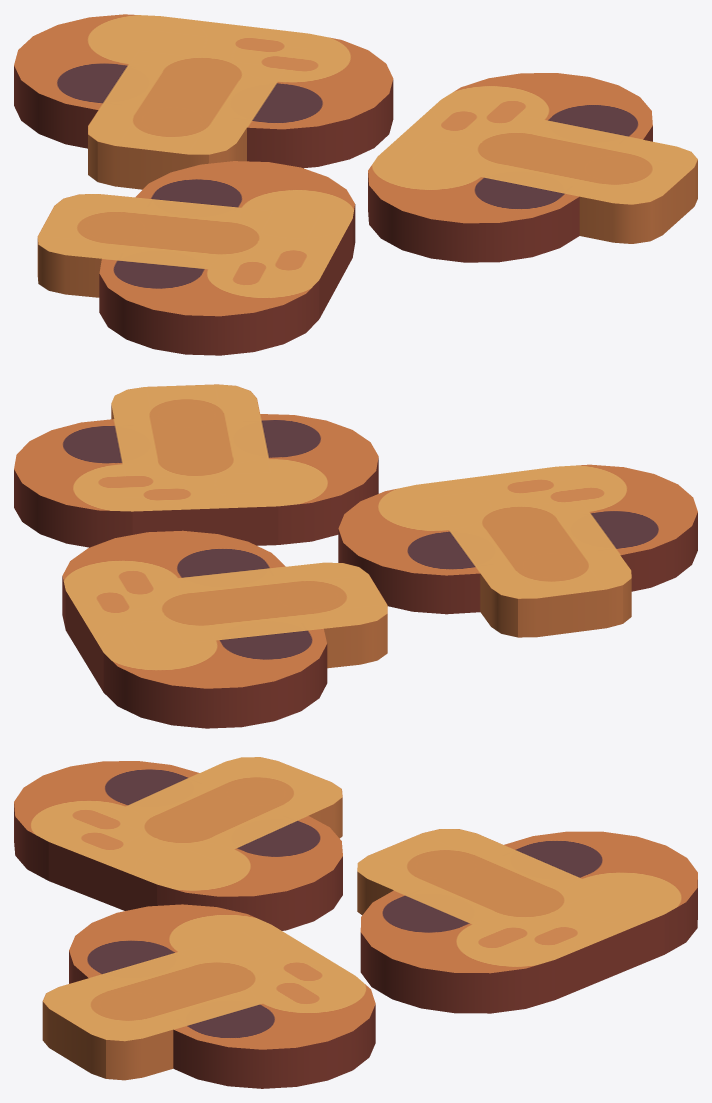
Rendered from Mushroom_Slice.glb.
3 views of the same model, one above another, from view 1: azimuth 30°, elevation 25°; view 2: azimuth 150°, elevation 25°; view 3: azimuth 270°, elevation 25° (orthographic).
Visible parts, largest first — view 1: Mushroom_Slice; view 2: Mushroom_Slice; view 3: Mushroom_Slice.
Boxes of the visible parts, x1,y1,x2,y2 form: Mushroom_Slice: [14, 14, 697, 355]; Mushroom_Slice: [14, 384, 697, 728]; Mushroom_Slice: [14, 757, 697, 1088].
Bounding box in the file's own units: 15.79 × 1.02 × 15.6.
Materials: 1 (1 with a texture image).
